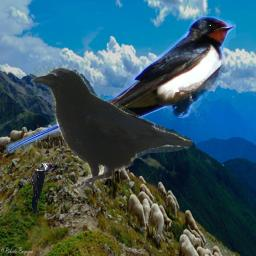Crow: (27, 64, 193, 190)
Swallow: (4, 16, 236, 153)
Woodpecker: (20, 161, 55, 214)
